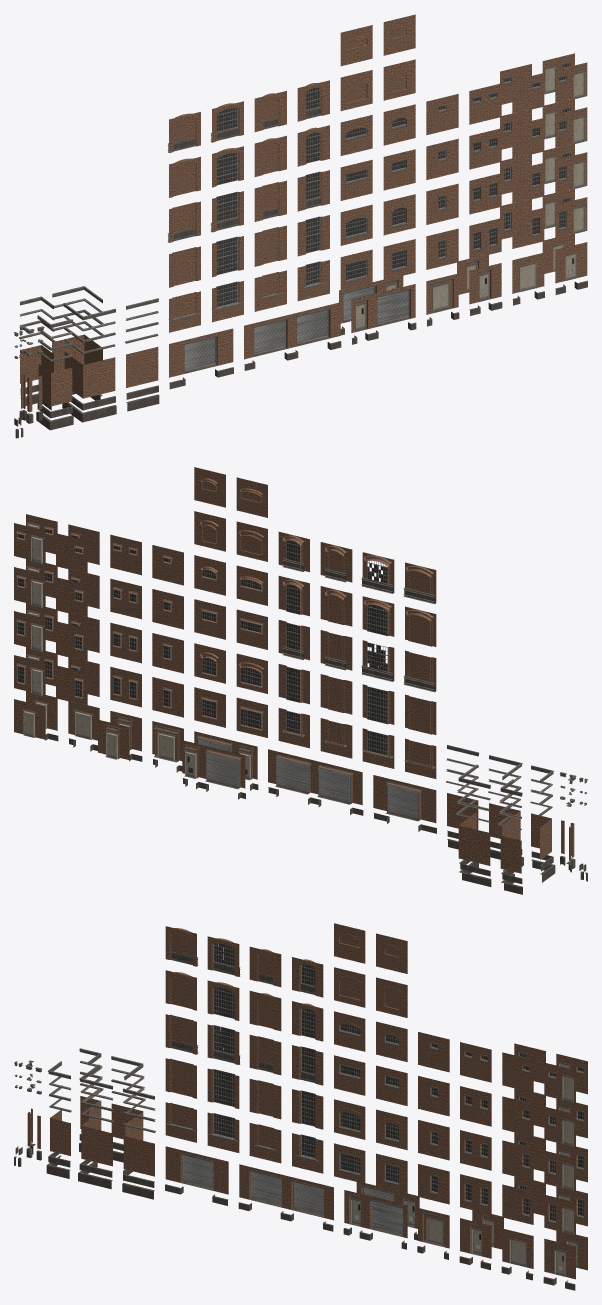
Rendered from factory-near.glb.
3 renders of one model, top to bottom at view 1: azimuth 30°, elevation 25°; view 2: azimuth 150°, elevation 25°; view 3: azimuth 330°, elevation 25°, orthographic.
Parts seen in each view (by area): view 1: wall_standard_standard_01, window_centered_medium_03, dado_standard_corner_large_01, cornice02_standard_standard_01, door_recessed_large_01; view 2: wall_standard_standard_01, window_centered_medium_03, dado_standard_corner_large_01, cornice02_standard_standard_01, door_recessed_large_01; view 3: wall_standard_standard_01, window_centered_medium_03, dado_standard_corner_large_01, cornice02_standard_standard_01, door_recessed_large_01.
Boxes of the visible parts, x1,y1,x2,y2 form: wall_standard_standard_01: [20, 14, 587, 412]; window_centered_medium_03: [19, 61, 586, 361]; dado_standard_corner_large_01: [14, 280, 587, 426]; cornice02_standard_standard_01: [14, 107, 324, 438]; door_recessed_large_01: [356, 67, 585, 329]; wall_standard_standard_01: [14, 467, 574, 873]; window_centered_medium_03: [16, 522, 552, 830]; dado_standard_corner_large_01: [34, 718, 586, 883]; cornice02_standard_standard_01: [282, 558, 587, 894]; door_recessed_large_01: [23, 524, 250, 779]; wall_standard_standard_01: [27, 923, 587, 1279]; window_centered_medium_03: [49, 943, 584, 1252]; dado_standard_corner_large_01: [15, 1134, 575, 1290]; cornice02_standard_standard_01: [14, 951, 318, 1199]; door_recessed_large_01: [350, 1063, 577, 1276].
Size of the model in its own units: 53.33 by 29 by 5.36.
6 materials, 6 textured.
